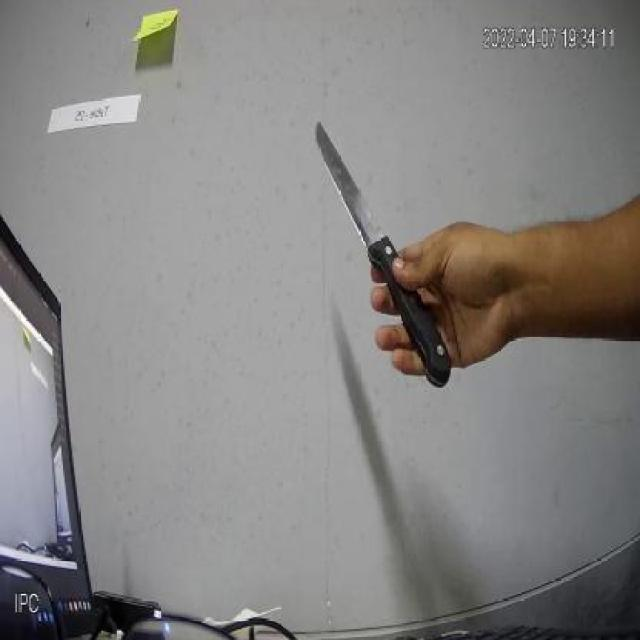knife: (308, 108, 452, 394)
